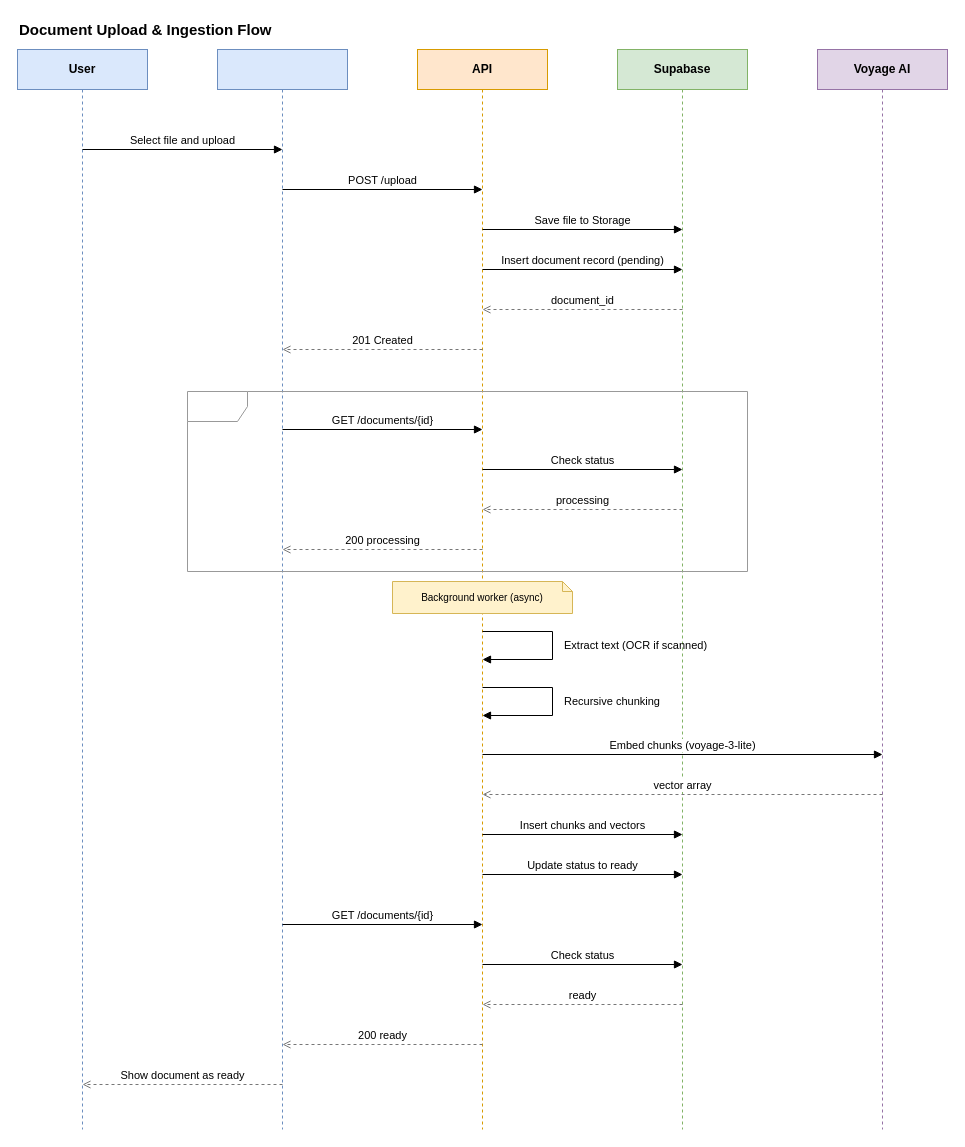
The diagram is 965 pixels wide and 1147 high, and some of its shapes have lost their labels. Each missing label, with the box of its shape:
Frontend: (216, 48, 348, 1130)
loop [poll every 2s]: (186, 390, 748, 572)
